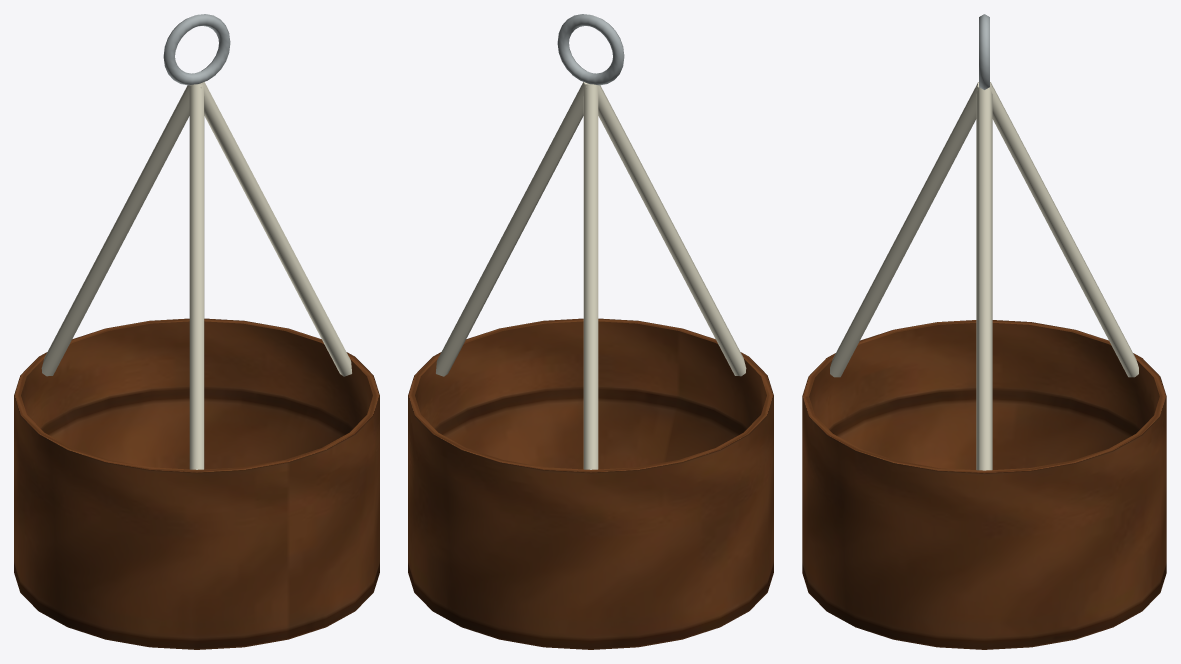
File: creature-husbandry-and-transport-suspended-feed-basket-ef907d31__23995.glb
The picture shows the model from 3 angles, left to right: view 1: azimuth 30°, elevation 25°; view 2: azimuth 150°, elevation 25°; view 3: azimuth 270°, elevation 25°; orthographic projection.
Visible parts, largest first — view 1: suspended-feed-basket; view 2: suspended-feed-basket; view 3: suspended-feed-basket.
Boxes of the visible parts, bbox=[...] form: suspended-feed-basket: bbox=[14, 14, 379, 649]; suspended-feed-basket: bbox=[408, 14, 773, 649]; suspended-feed-basket: bbox=[802, 14, 1166, 649].
Bounding box in the file's own units: 0.8 × 1.37 × 0.8.
3 materials, 1 textured.
